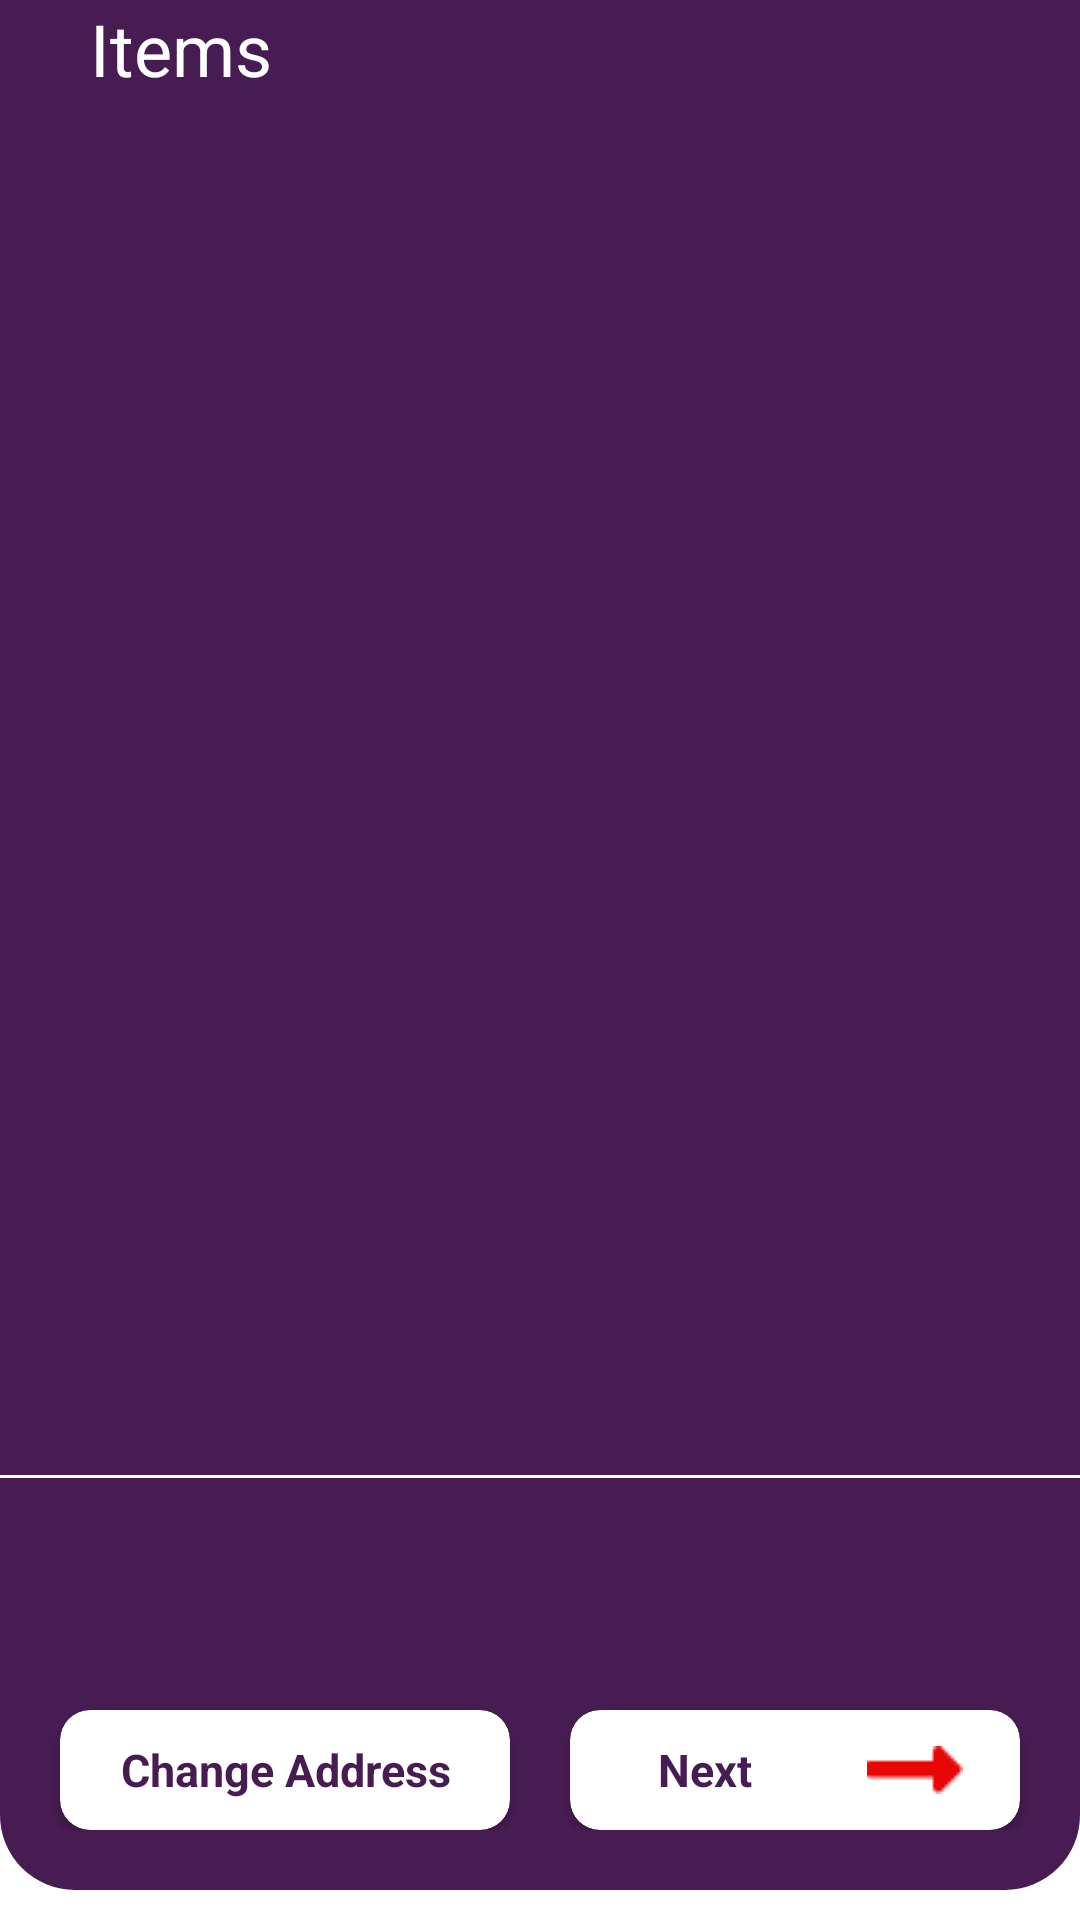

Icons on this 1080px×1920px Android screen, each with the point to tap as (x=x, y=y):
arrow: (x=915, y=1770)
